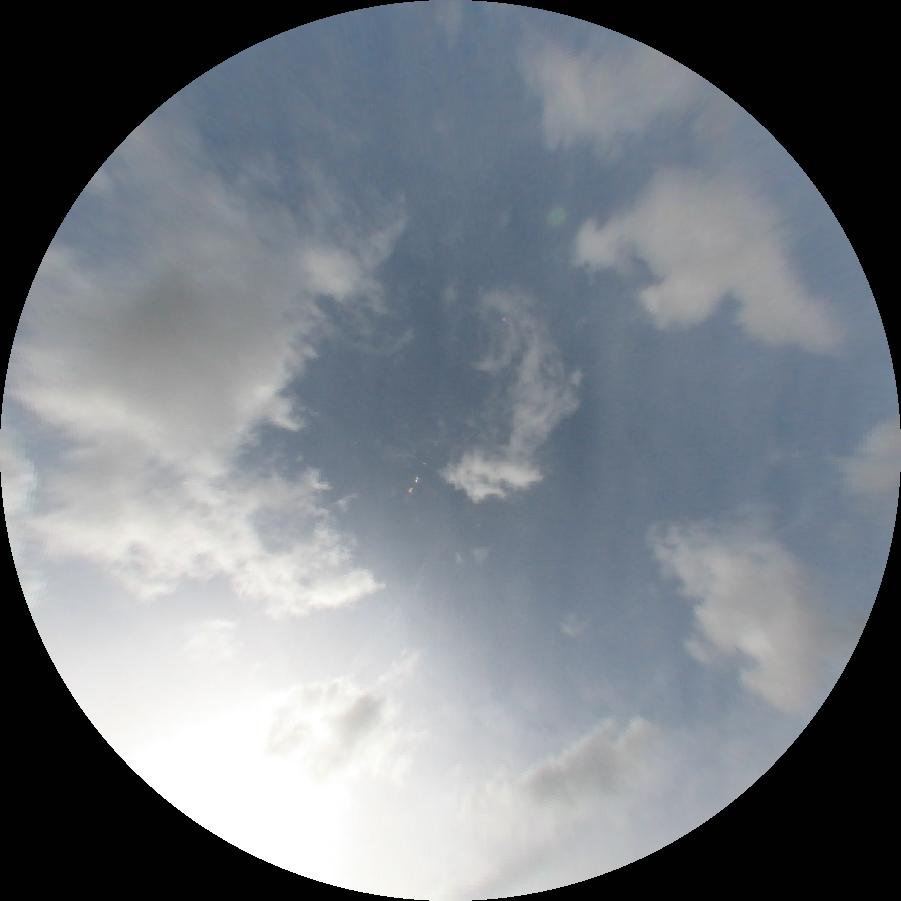sun: (114, 704, 358, 888)
